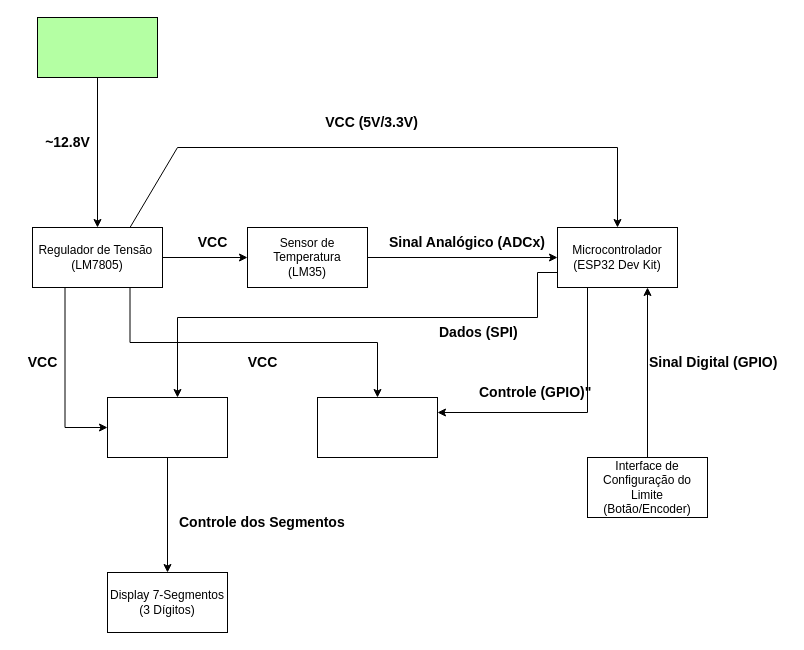
Image size: 804x650. Some labels were removed from this diagram. Each missing label, with the box of its shape:
Alarme Sonoro (Buzzer Ativo): (316, 396, 438, 458)
Alimentação(Bateria LiFePO4 4S): (36, 16, 158, 78)
Driver do Display (MAX7219): (106, 396, 228, 458)
